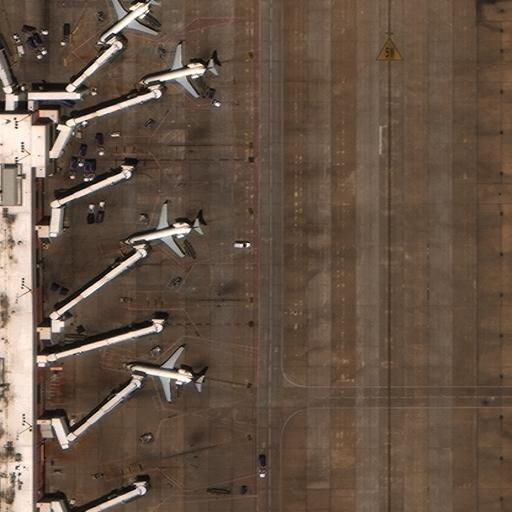Medium Civil Transport: (124, 346, 204, 401), (123, 204, 202, 258), (136, 45, 216, 98), (96, 0, 157, 45)
